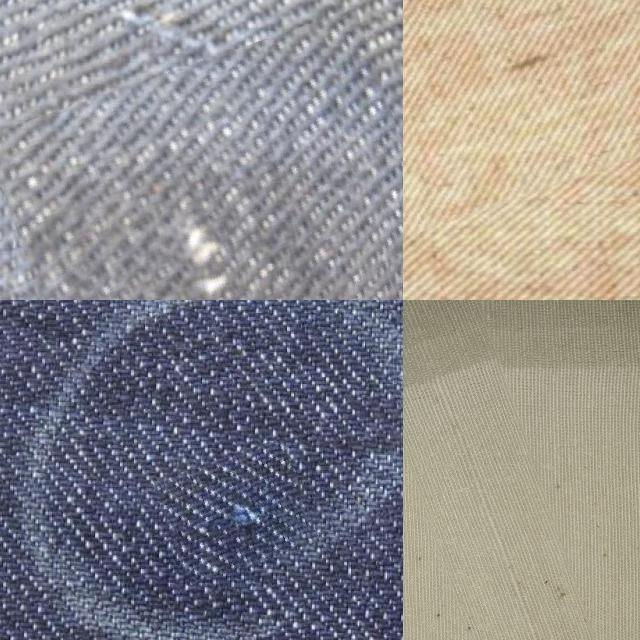Thread_other: (17, 33, 403, 300), (403, 300, 601, 640), (403, 0, 640, 251), (159, 446, 312, 576)
